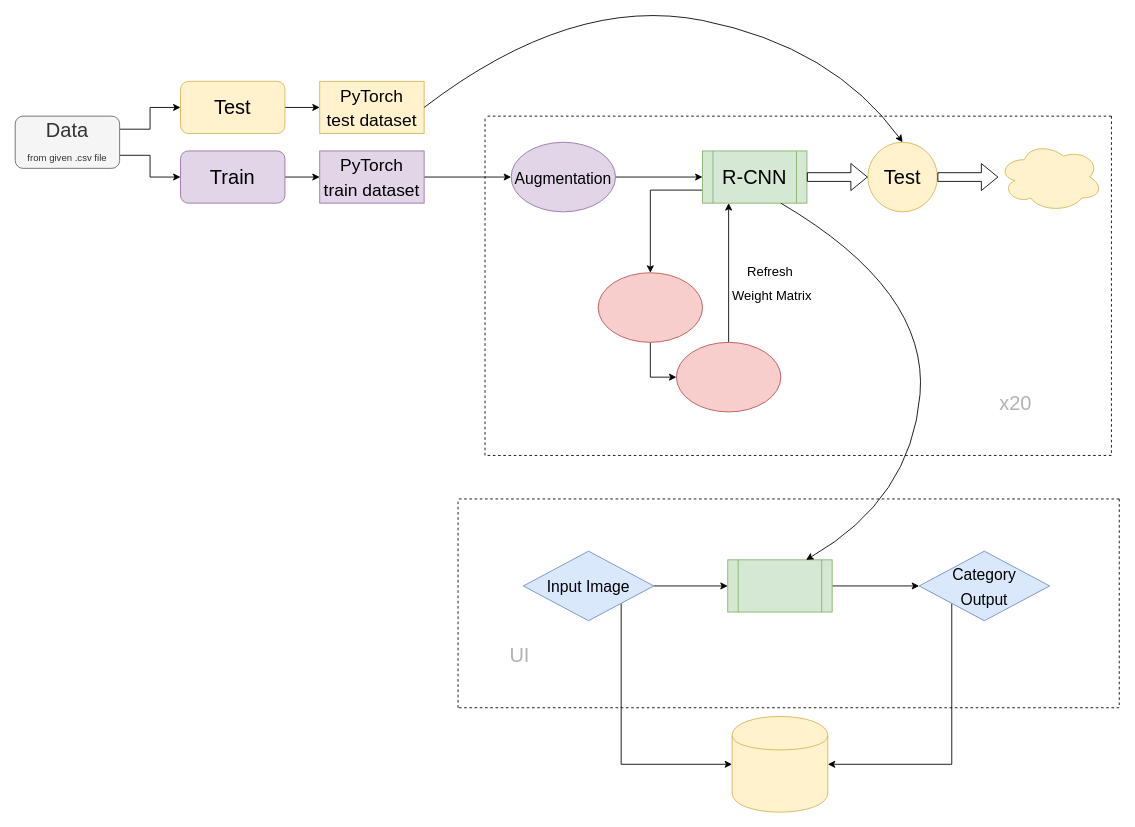
The diagram is 1135 pixels wide and 827 high, and some of its shapes have lost their labels. The centre of each missing label's shape, as x and y in pixels:
Accuracy: point 1050,176
Dataset: point 779,764
Loss: point 650,307
Optimizer: point 728,376
Pre-trained R-CNN: point 779,585
